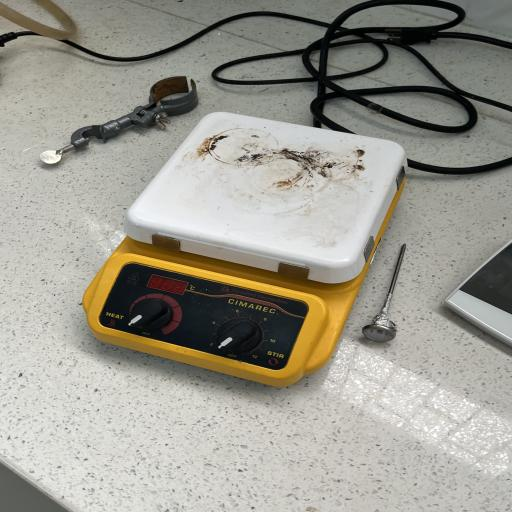Plancha_Agitacion_Cimarec: (58, 97, 424, 399)
